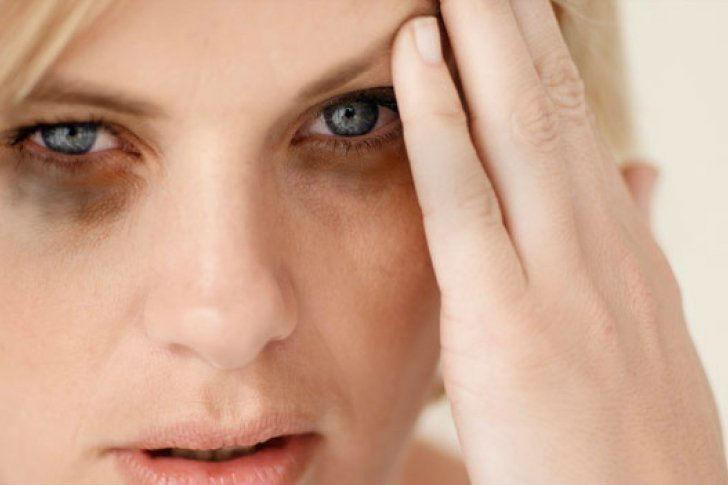Eyebags: (0, 131, 163, 234), (280, 124, 414, 201)
